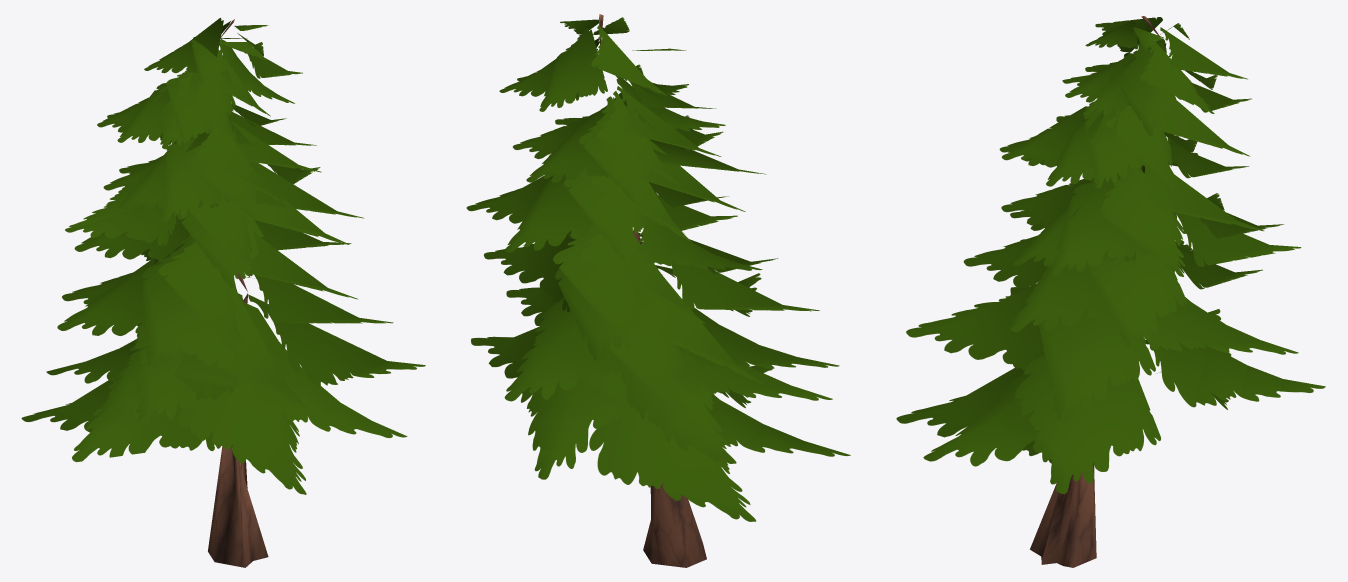
Rendered from pine_5.glb.
3 views of the same model, side by side, from view 1: azimuth 30°, elevation 25°; view 2: azimuth 150°, elevation 25°; view 3: azimuth 270°, elevation 25° (orthographic). The views are drawn at different scales.
Parts seen in each view (by area): view 1: Pine_5; view 2: Pine_5; view 3: Pine_5.
Part boxes in pixels (x1,y1,x2,y2): Pine_5: (21,17,425,567); Pine_5: (466,14,850,567); Pine_5: (896,16,1325,567).
Bounding box in the file's own units: 6.42 × 8.57 × 6.22.
2 materials, 2 textured.
